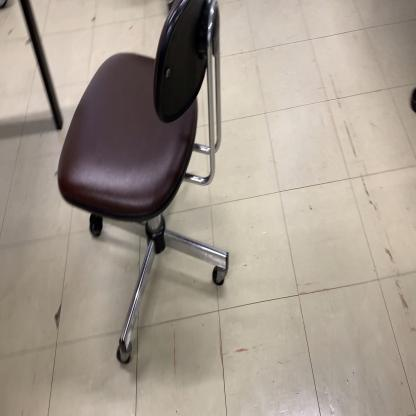chair: (56, 0, 230, 369)
